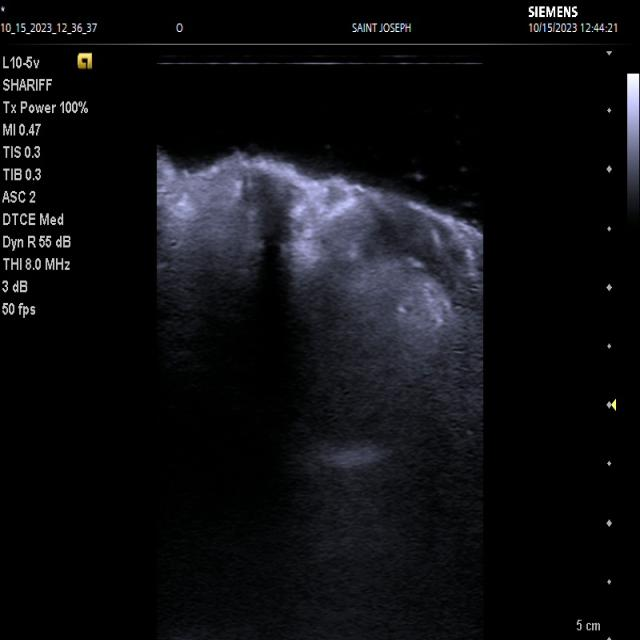tissue: (154, 151, 485, 640)
